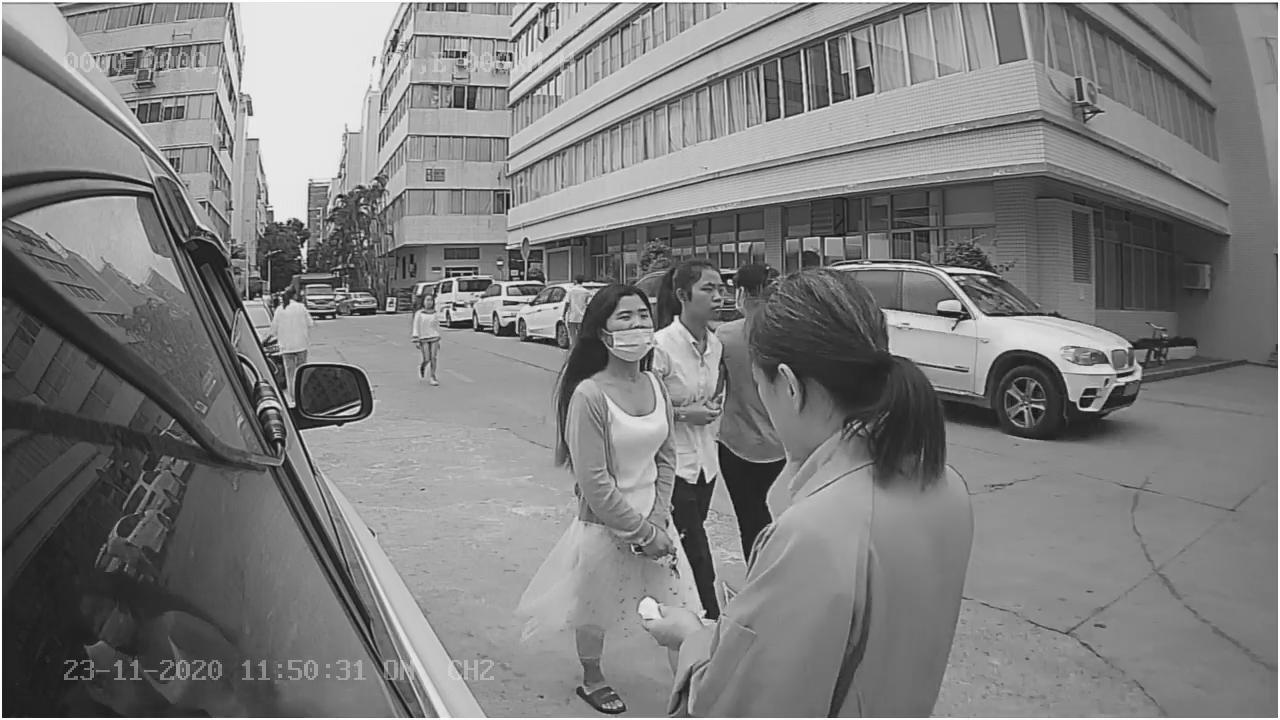person: (553, 268, 683, 567)
